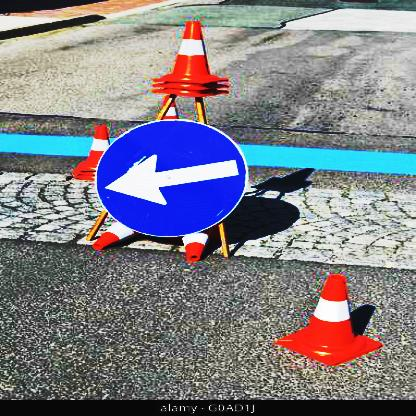Keep left: (97, 118, 250, 244)
